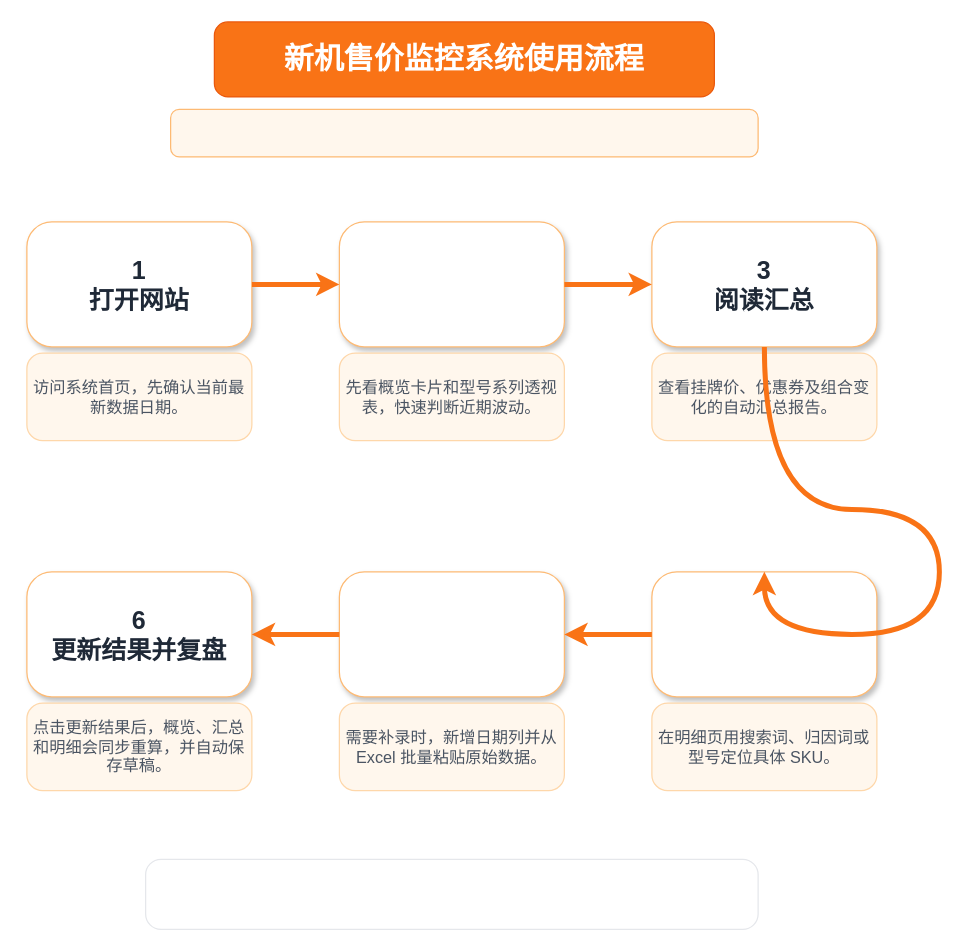
This 964x951 diagram has some shape labels left out. Each missing label, with the centre of its shape:
"2 查看概览" belongs at (452,286).
"4 查明细" belongs at (765,636).
"5 编辑原始数据" belongs at (452,636).
"建议日常先看概览和汇总，再查明细；只有更新数据时才进入原始数据页。" belongs at (451,893).
"适用于：查看概览、输出汇总、检索明细、更新原始数据并同步重算" belongs at (463,132).
